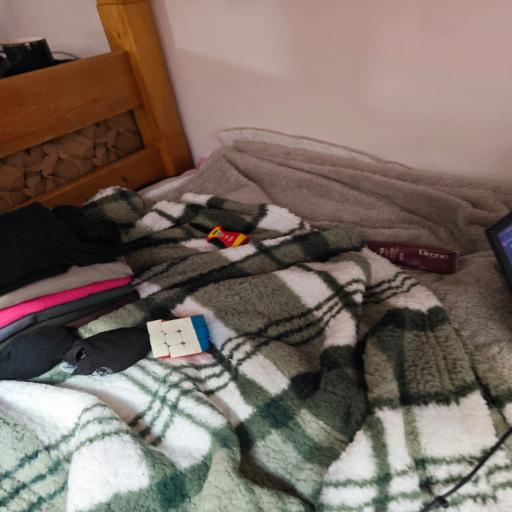Crema Maini: (364, 237, 459, 276)
Rubiks Cube: (143, 316, 212, 358)
Super Glue: (185, 220, 252, 248)
